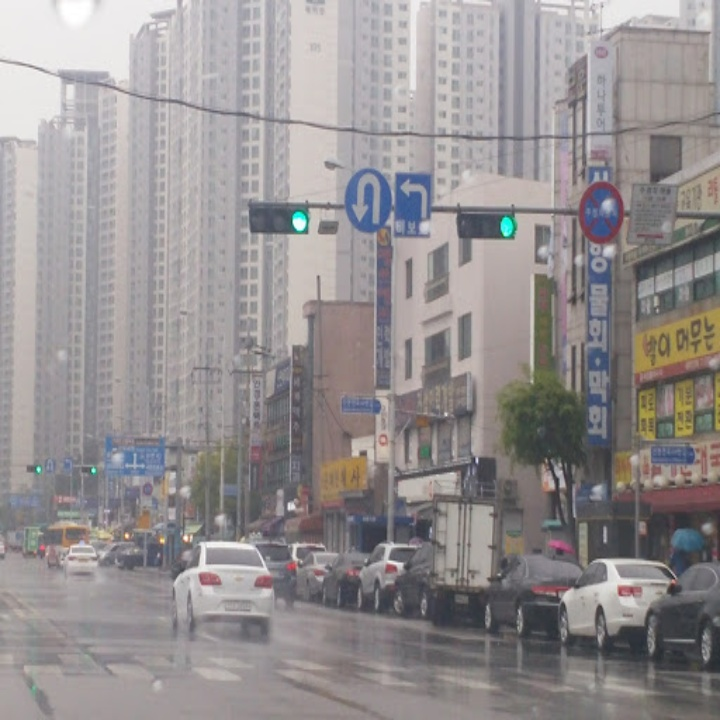left: (395, 177, 433, 220)
